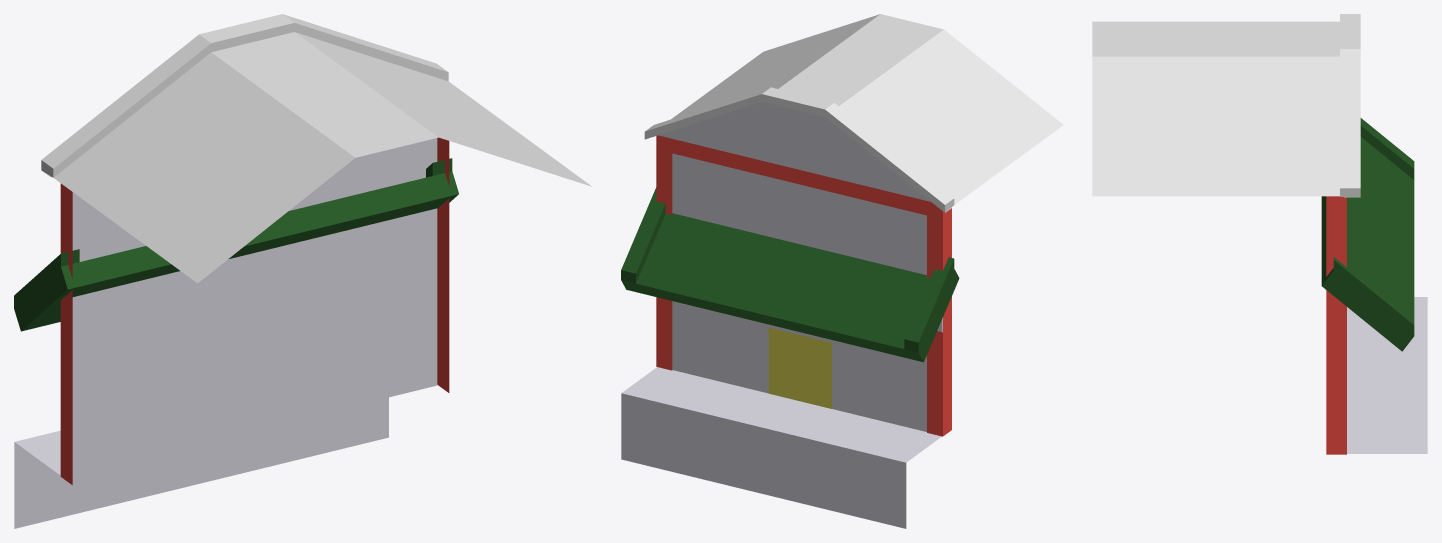
Rendered from Chinese_House2.fbx.
3 views of the same model, side by side, from view 1: azimuth 30°, elevation 25°; view 2: azimuth 150°, elevation 25°; view 3: azimuth 270°, elevation 25° (orthographic). The views are drawn at different scales.
Visible parts, largest first — view 1: Main.001, Roof, Roof.001, Frame.001; view 2: Main.001, Roof, Roof.001, Frame.001, Door; view 3: Roof, Roof.001, Main.001, Frame.001.
Boxes of the visible parts, bbox=[...] form: Main.001: bbox=[14, 138, 437, 528]; Roof: bbox=[41, 14, 592, 283]; Roof.001: bbox=[14, 158, 458, 331]; Frame.001: bbox=[60, 137, 449, 484]; Main.001: bbox=[621, 102, 942, 528]; Roof: bbox=[644, 14, 1063, 212]; Roof.001: bbox=[621, 187, 959, 362]; Frame.001: bbox=[656, 135, 951, 436]; Door: bbox=[768, 327, 831, 408]; Roof: bbox=[1092, 14, 1360, 197]; Roof.001: bbox=[1321, 118, 1414, 351]; Main.001: bbox=[1347, 297, 1427, 453]; Frame.001: bbox=[1326, 196, 1346, 454].
Bounding box in the file's own units: 949 × 1119 × 813.
